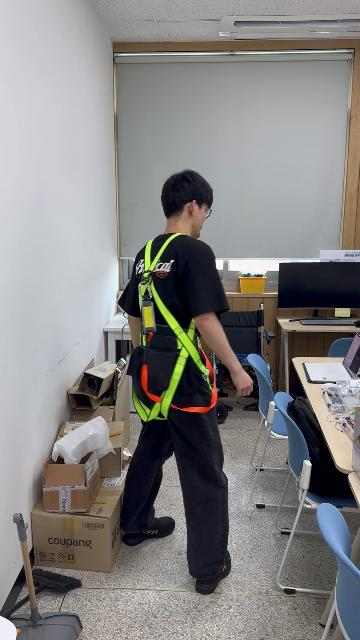helmet_not_worn: (159, 167, 218, 226)
shoe_worn: (122, 513, 175, 547), (193, 550, 232, 595)
vest_worn: (134, 239, 218, 415)
